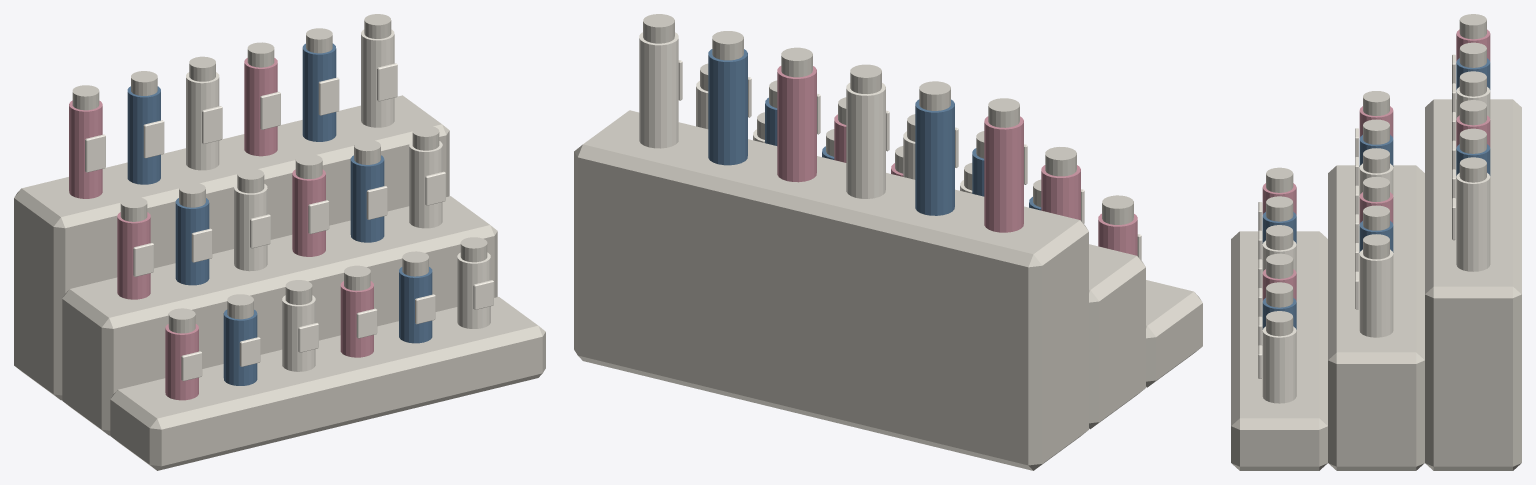
File: retail_08.glb
The picture shows the model from 3 angles, left to right: view 1: azimuth 30°, elevation 25°; view 2: azimuth 150°, elevation 25°; view 3: azimuth 270°, elevation 25°; orthographic projection. The views are drawn at different scales.
Parts seen in each view (by area): view 1: Tier (×3), Bottle (×18), Label (×18), BottleCap (×18); view 2: Tier (×3), Bottle (×8), BottleCap (×8); view 3: Tier (×3), Bottle (×18), BottleCap (×18).
Boxes of the visible parts, left/top/right/bottom form: Tier (×3): left=14, top=95, right=545, bottom=470; Bottle (×18): left=69, top=29, right=490, bottom=400; Label (×18): left=85, top=63, right=493, bottom=381; BottleCap (×18): left=72, top=14, right=487, bottom=333; Tier (×3): left=574, top=110, right=1202, bottom=470; Bottle (×8): left=639, top=32, right=1137, bottom=255; BottleCap (×8): left=643, top=14, right=1133, bottom=224; Tier (×3): left=1231, top=99, right=1521, bottom=470; Bottle (×18): left=1262, top=29, right=1490, bottom=403; BottleCap (×18): left=1266, top=14, right=1486, bottom=336.
Bounding box in the file's own units: 0.95 × 0.6515 × 0.6.
